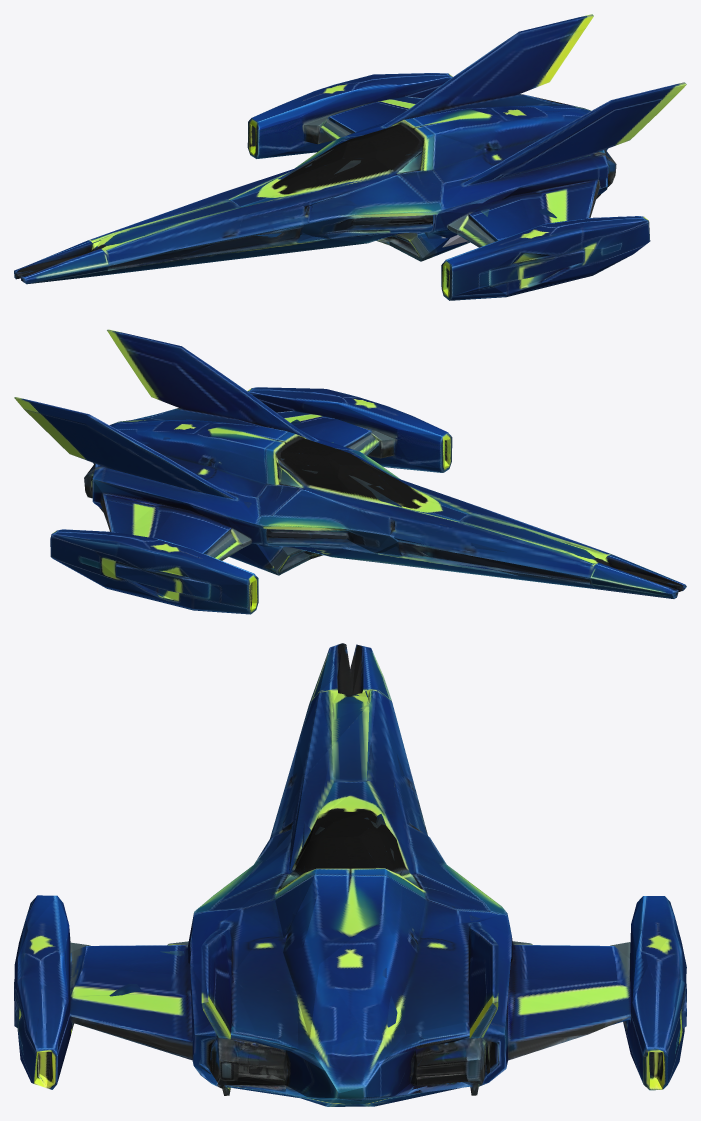
File: racer_optimized-team2.glb
3 renders of one model, top to bottom at view 1: azimuth 30°, elevation 25°; view 2: azimuth 150°, elevation 25°; view 3: azimuth 270°, elevation 25°, orthographic. The views are drawn at different scales.
Visible parts, largest first — view 1: output_unwrapped; view 2: output_unwrapped; view 3: output_unwrapped.
Part boxes in pixels (x1,y1,x2,y2): output_unwrapped: (14, 14, 686, 300); output_unwrapped: (14, 329, 686, 614); output_unwrapped: (14, 643, 686, 1106).
Bounding box in the file's own units: 1.9 × 0.361 × 1.14.
Materials: 1 (1 with a texture image).
